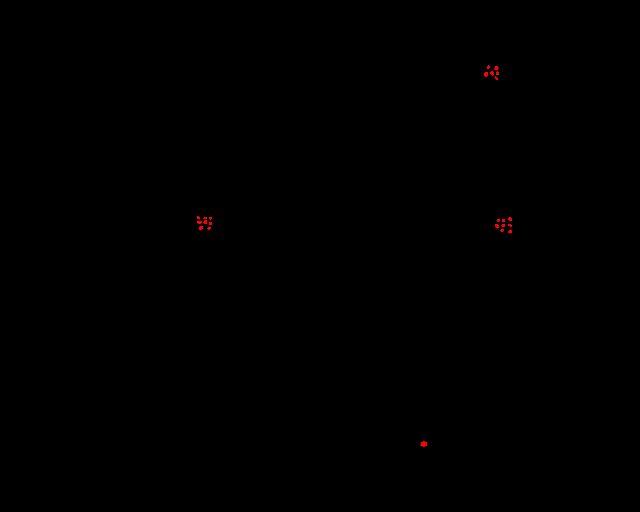Target: (420, 441, 427, 447), (494, 66, 499, 70), (490, 71, 494, 76), (484, 72, 488, 77), (508, 217, 512, 221), (203, 220, 207, 224), (495, 224, 499, 228), (199, 226, 203, 230), (197, 221, 202, 224), (487, 65, 490, 69), (496, 71, 499, 75), (495, 76, 498, 80), (501, 224, 505, 227), (508, 224, 512, 227), (207, 227, 211, 230), (500, 229, 504, 232), (508, 230, 512, 233), (197, 216, 200, 219), (209, 217, 212, 220), (497, 219, 500, 222), (502, 219, 505, 222), (209, 222, 212, 225), (203, 217, 207, 219)
